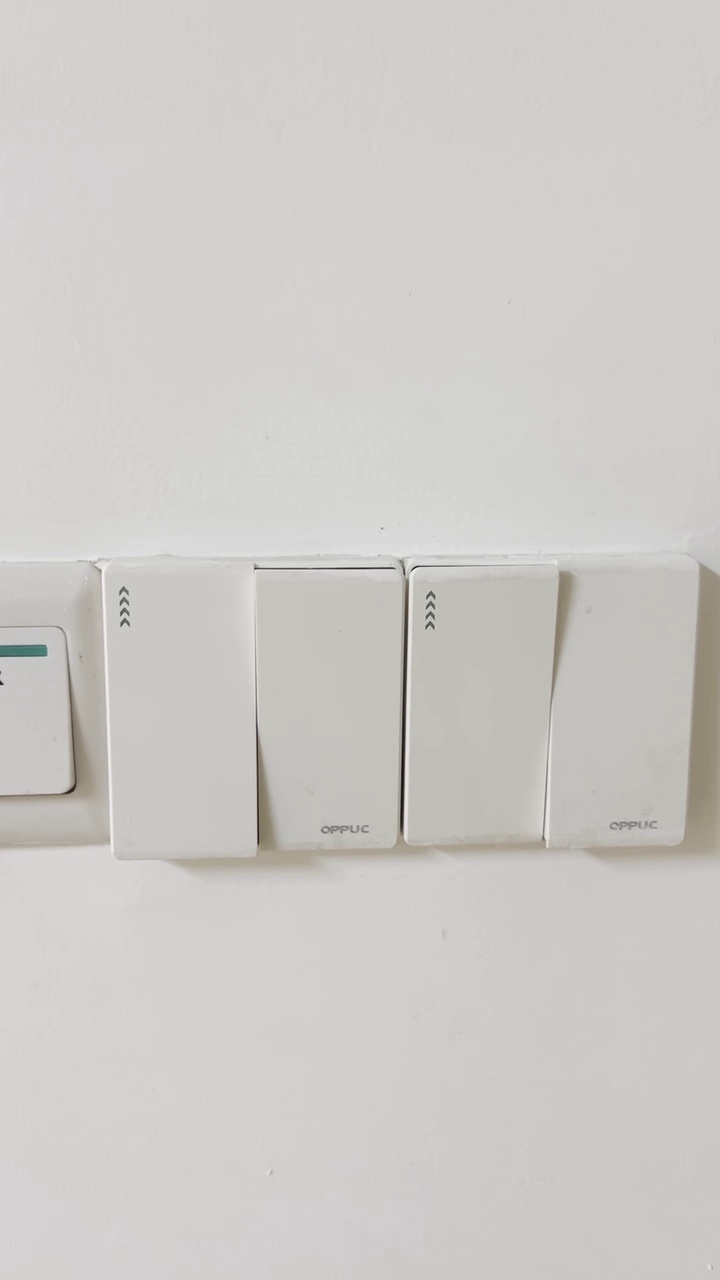button1: (106, 565, 250, 848), (552, 569, 691, 844), (257, 573, 396, 845), (412, 572, 547, 843)
